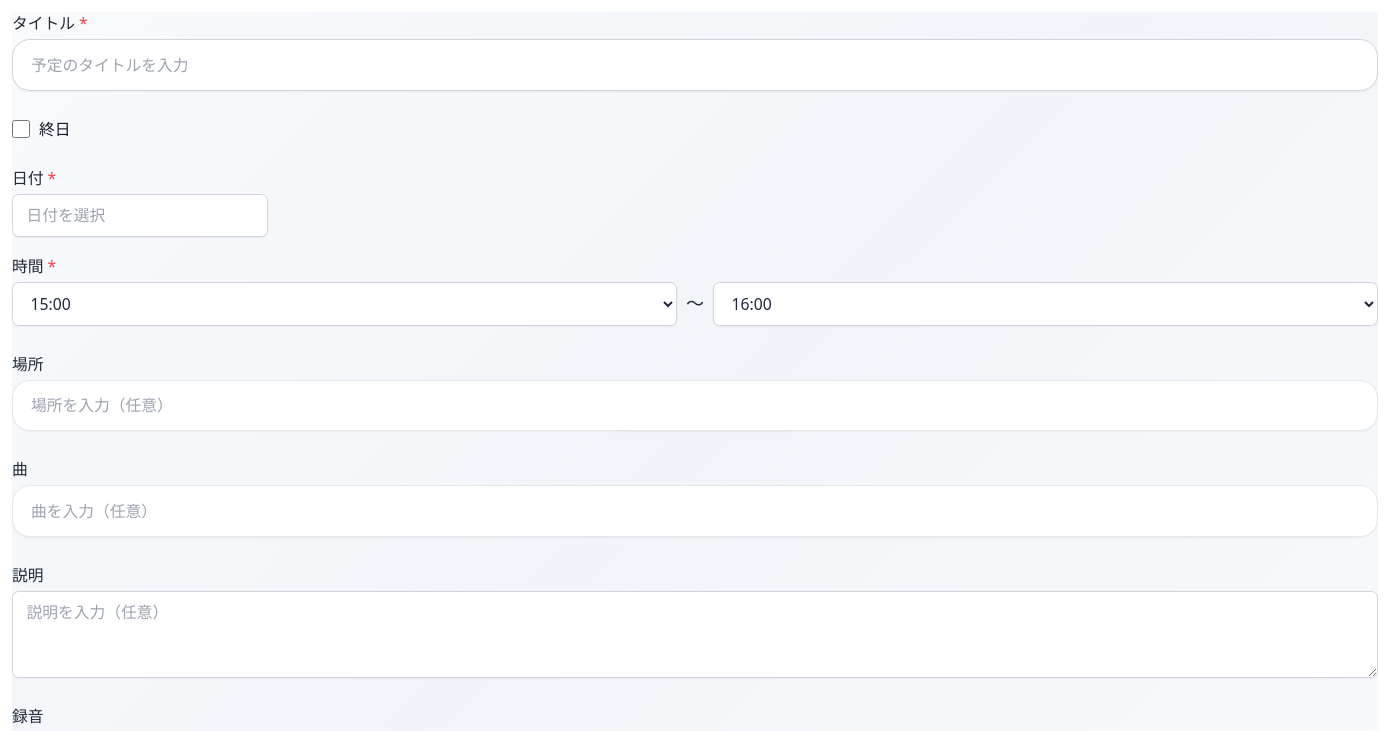
Test case: ScheduleForm › all day toggle › should change form layout when all day is toggled
This screenshot has width=1390, height=731.
Expected: the text "日付 *" is shown, [12, 167, 56, 189]
Expected: the dropdown with id "startTime" is shown, [12, 282, 677, 326]
Toggle all day
Step 1. Click the checkbox labelled "終日" → (21, 129), box [12, 120, 30, 138]
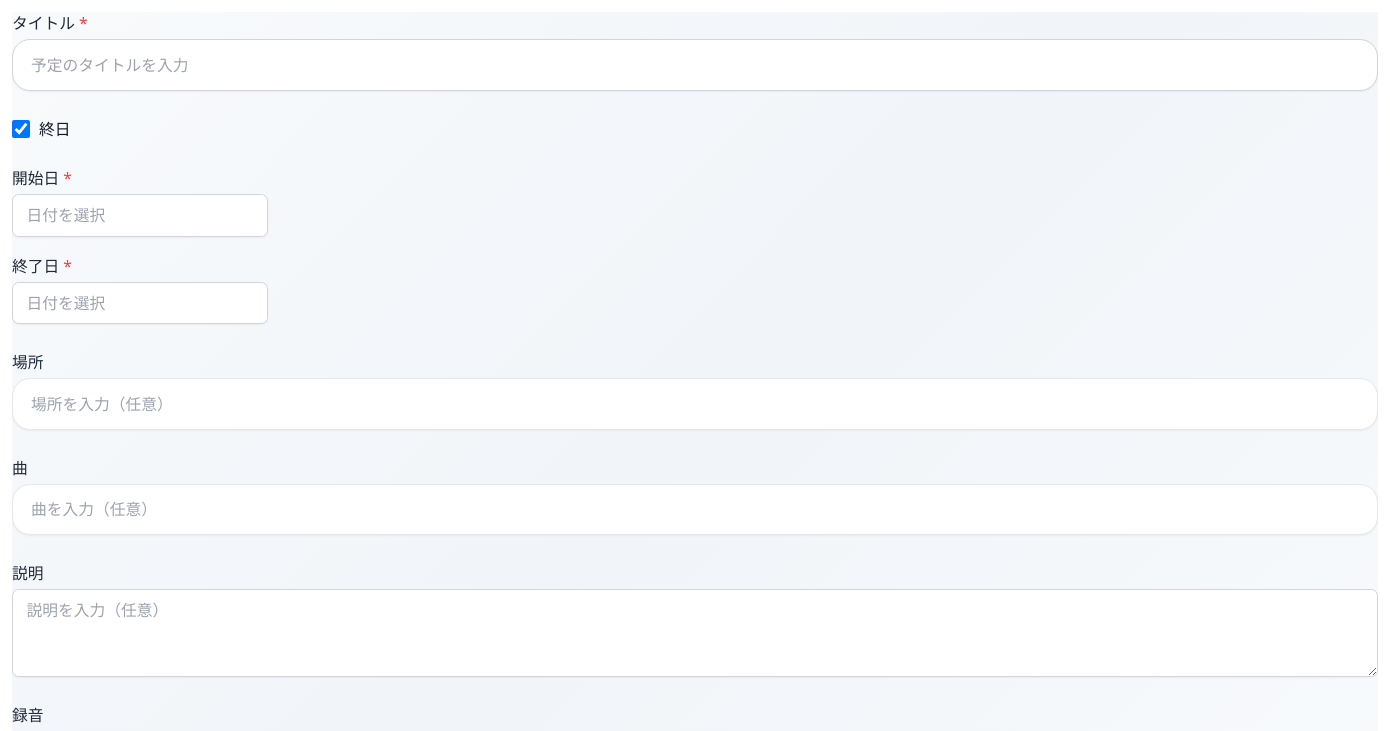
Expected: the text "開始日" is shown, [12, 167, 59, 189]
Expected: the dropdown with id "startTime" is gone
